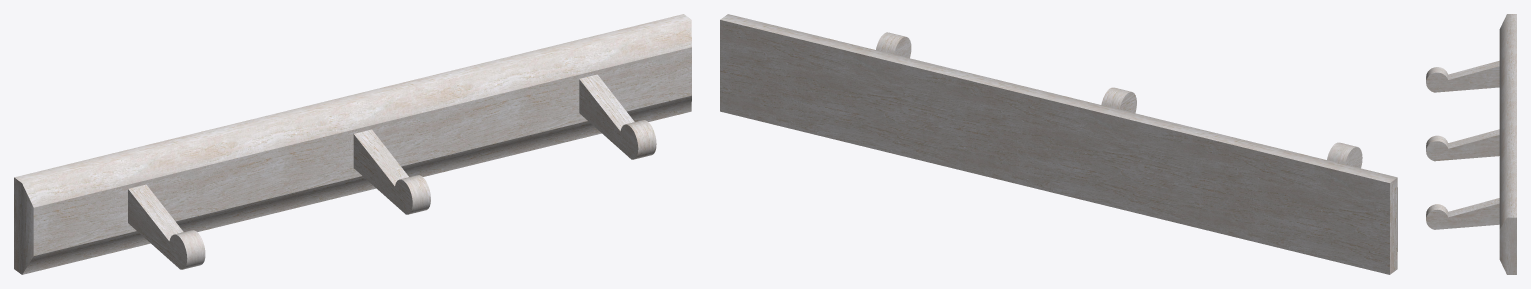
File: CoatRack3.fbx
The picture shows the model from 3 angles, left to right: view 1: azimuth 30°, elevation 25°; view 2: azimuth 150°, elevation 25°; view 3: azimuth 270°, elevation 25°; orthographic projection. The views are drawn at different scales.
Visible parts, largest first — view 1: CoatRack3; view 2: CoatRack3; view 3: CoatRack3.
Part boxes in pixels (left/top/right/bottom): CoatRack3: left=14, top=14, right=691, bottom=274; CoatRack3: left=720, top=14, right=1397, bottom=274; CoatRack3: left=1426, top=14, right=1516, bottom=274.
Size of the model in its own units: 16.54 by 2.17 by 3.12.
